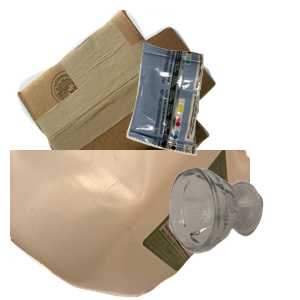cardboard: (14, 10, 222, 190)
glass: (166, 165, 300, 300)
plastic: (10, 150, 250, 300)
trash: (124, 40, 300, 188)
